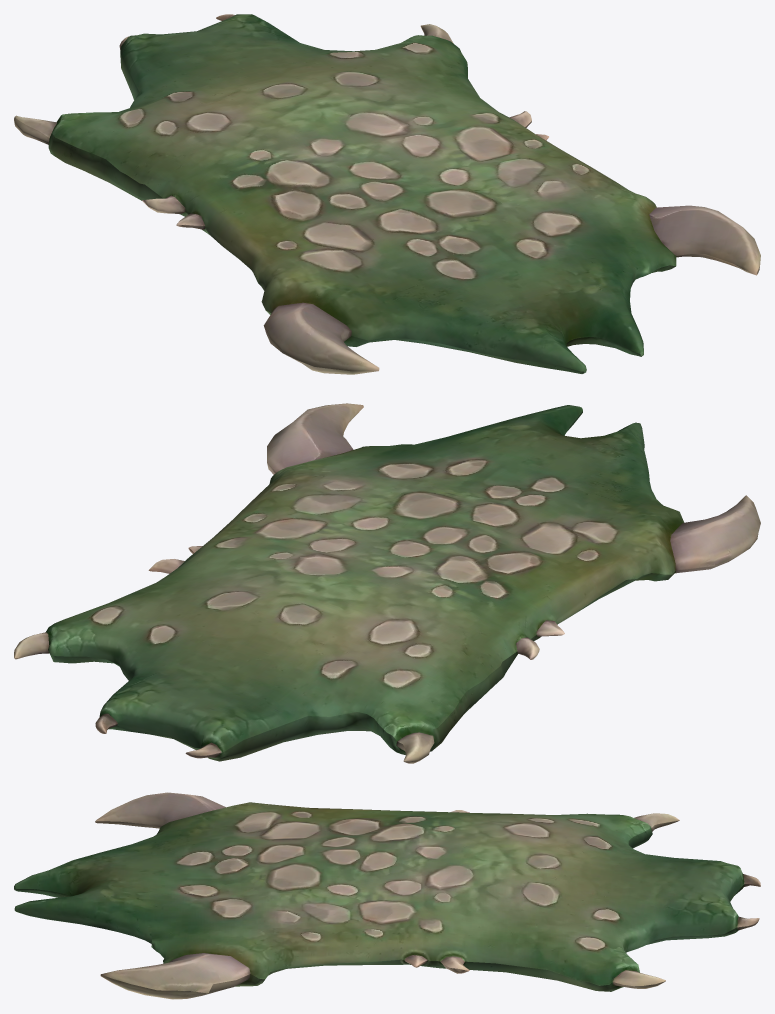
The picture shows the model from 3 angles, top to bottom: view 1: azimuth 30°, elevation 25°; view 2: azimuth 150°, elevation 25°; view 3: azimuth 270°, elevation 25°; orthographic projection. The views are drawn at different scales.
Visible parts, largest first — view 1: SM_Green_Dragonhide_Leather_01_LOD0; view 2: SM_Green_Dragonhide_Leather_01_LOD0; view 3: SM_Green_Dragonhide_Leather_01_LOD0.
Boxes of the visible parts, left/top/right/bottom form: SM_Green_Dragonhide_Leather_01_LOD0: left=14, top=14, right=760, bottom=374; SM_Green_Dragonhide_Leather_01_LOD0: left=14, top=403, right=760, bottom=763; SM_Green_Dragonhide_Leather_01_LOD0: left=14, top=792, right=760, bottom=999.
Bounding box in the file's own units: 0.5761 × 0.0844 × 0.9673.
Materials: 1 (1 with a texture image).
